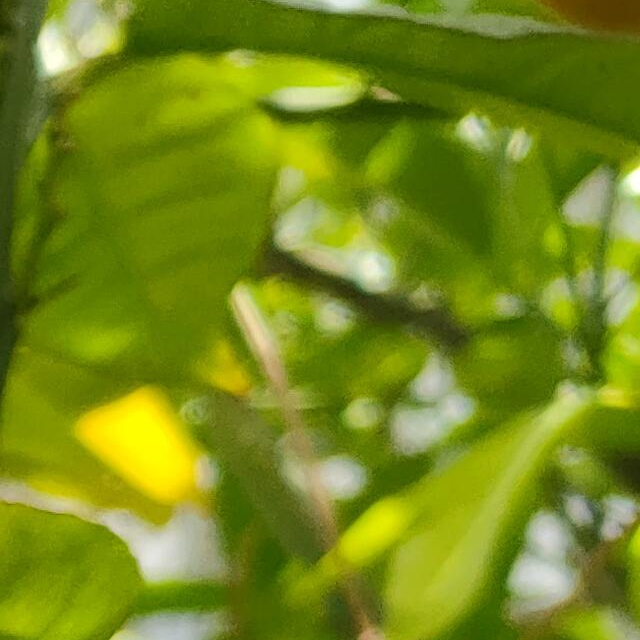orange: (461, 0, 639, 56)
